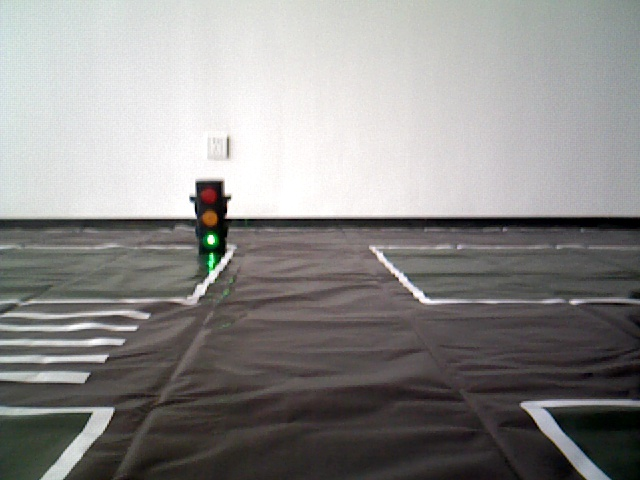green: (194, 185, 224, 248)
